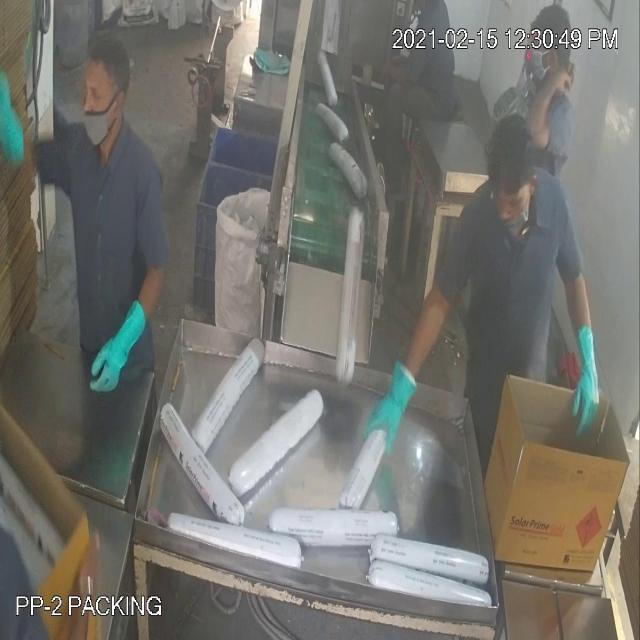gloves: (81, 279, 153, 413), (361, 338, 425, 468), (564, 296, 612, 445), (1, 68, 52, 198)
no-gloves: (524, 58, 572, 156), (366, 55, 427, 103)
